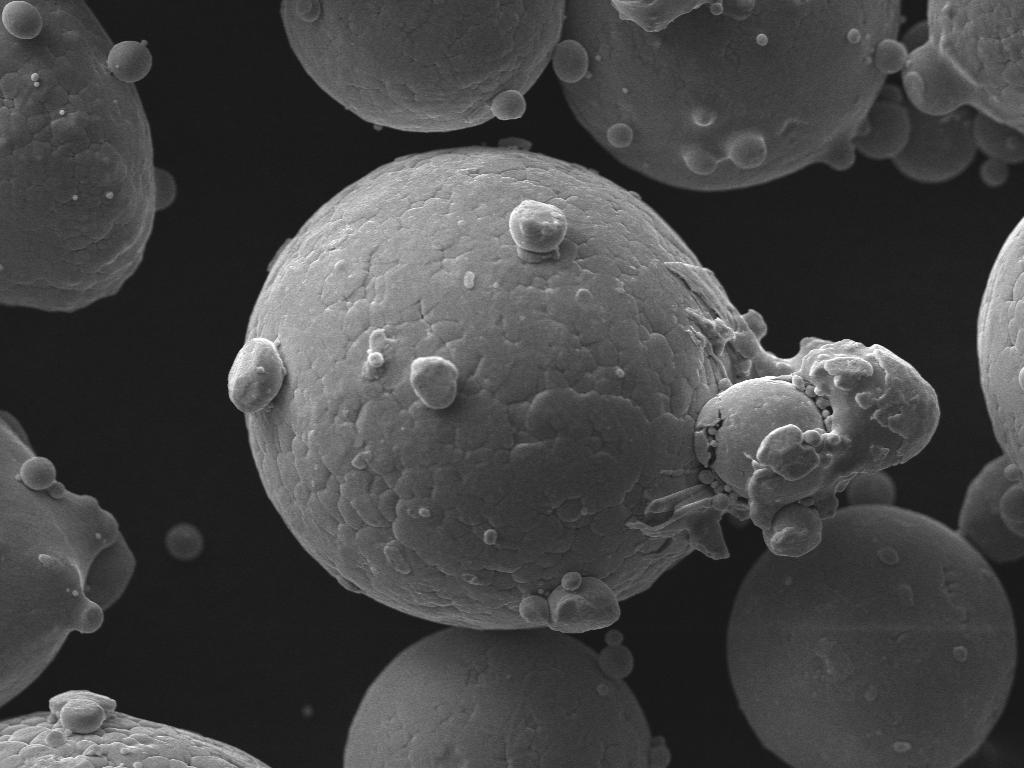Powder: (228, 148, 938, 632), (728, 474, 1016, 766), (552, 0, 906, 190), (0, 0, 174, 311), (344, 628, 670, 767), (0, 412, 134, 705), (280, 0, 566, 132), (958, 218, 1024, 562), (0, 690, 264, 768), (854, 84, 1024, 186), (902, 0, 1024, 135), (164, 522, 204, 562)
